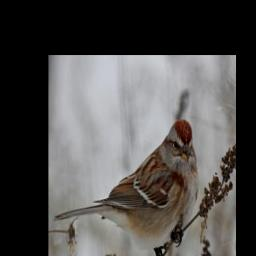Sparrow: (54, 118, 200, 256)
